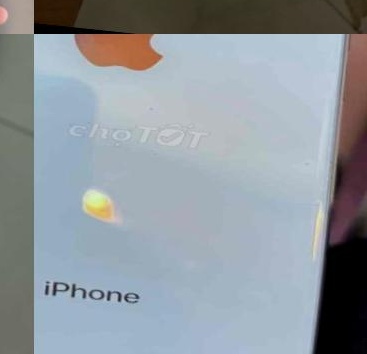scratch: (276, 130, 346, 188), (126, 93, 168, 126)
